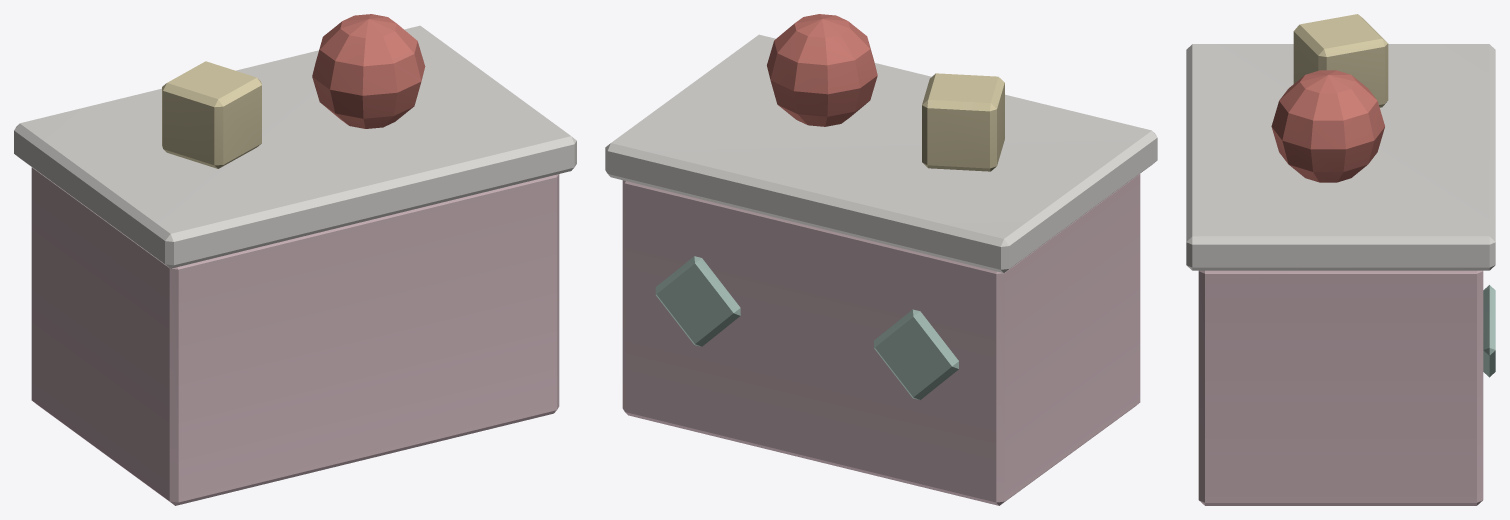
Rendered from furn_toy_box__pink.glb.
The picture shows the model from 3 angles, left to right: view 1: azimuth 30°, elevation 25°; view 2: azimuth 150°, elevation 25°; view 3: azimuth 270°, elevation 25°; orthographic projection.
Bounding box in the file's own units: 0.74 × 0.65 × 0.49.
